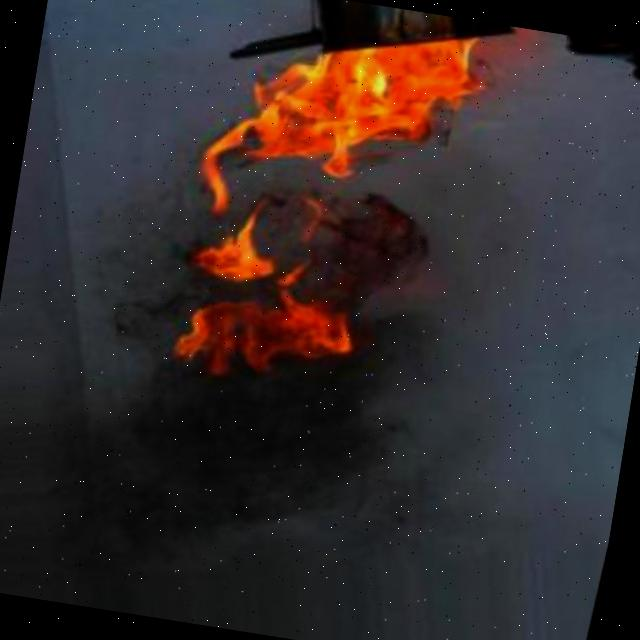fire: (125, 0, 548, 264), (148, 176, 358, 404)
